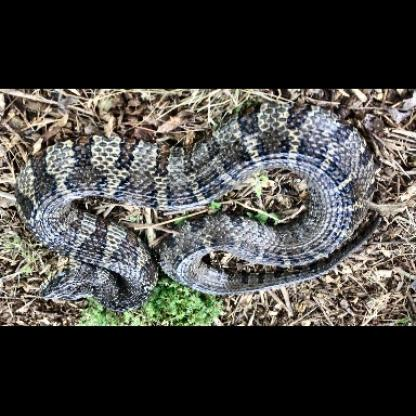Snake: (8, 102, 403, 312)
